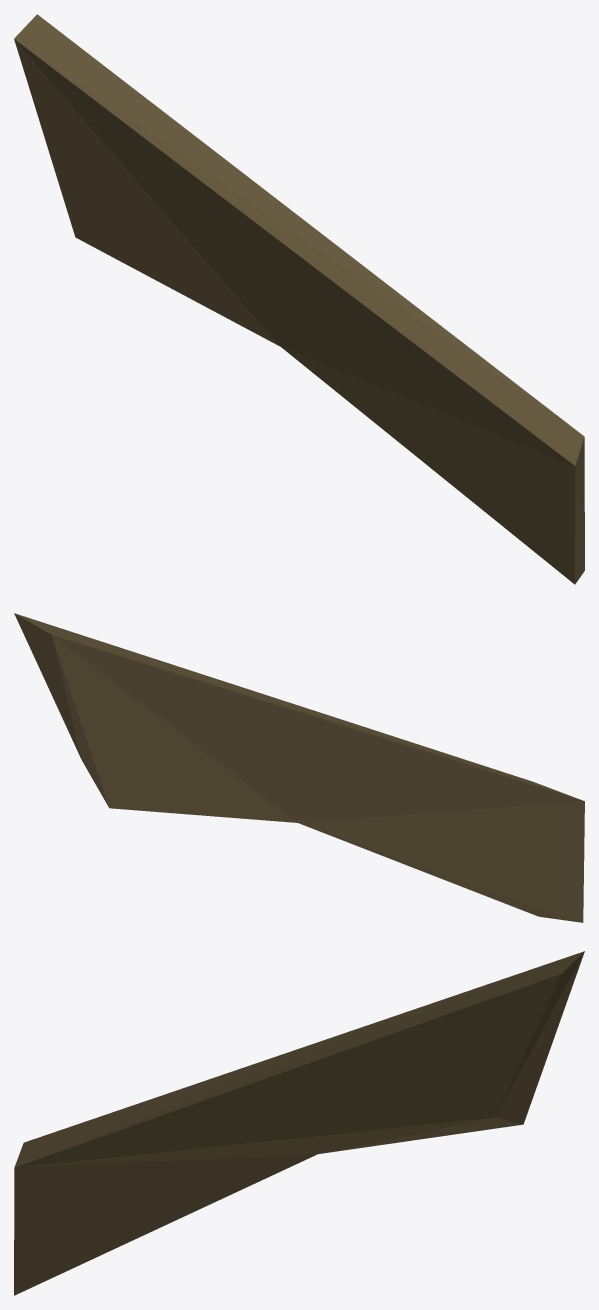
Rendered from ant-tibia-strip-front-left.dae.
3 views of the same model, one above another, from view 1: azimuth 90°, elevation 25°; view 2: azimuth 150°, elevation 25°; view 3: azimuth 270°, elevation 25° (orthographic). The views are drawn at different scales.
Parts seen in each view (by area): view 1: ant-tibia-strip-front-left; view 2: ant-tibia-strip-front-left; view 3: ant-tibia-strip-front-left.
Boxes of the visible parts, x1=… form: ant-tibia-strip-front-left: x1=14, y1=14, x2=584, y2=584; ant-tibia-strip-front-left: x1=14, y1=613, x2=584, y2=922; ant-tibia-strip-front-left: x1=14, y1=951, x2=584, y2=1295.
Size of the model in its own units: 0.3366 by 0.5738 by 0.487.
